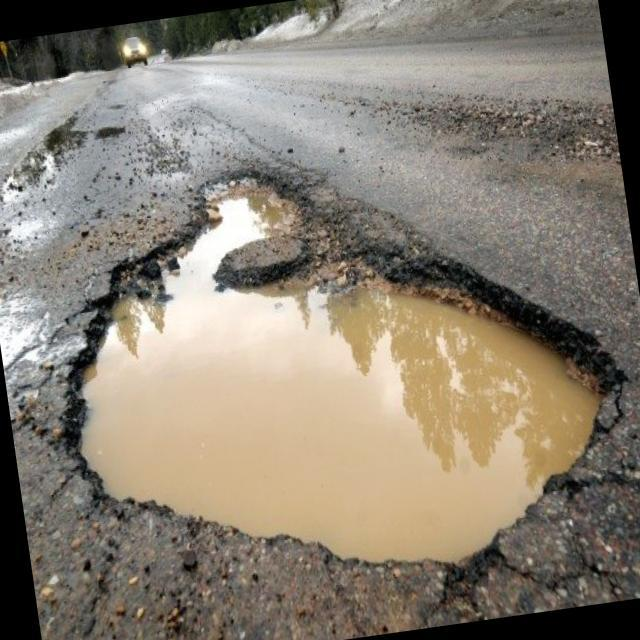Pothole: (36, 117, 640, 640), (39, 116, 84, 163), (91, 120, 130, 148)
